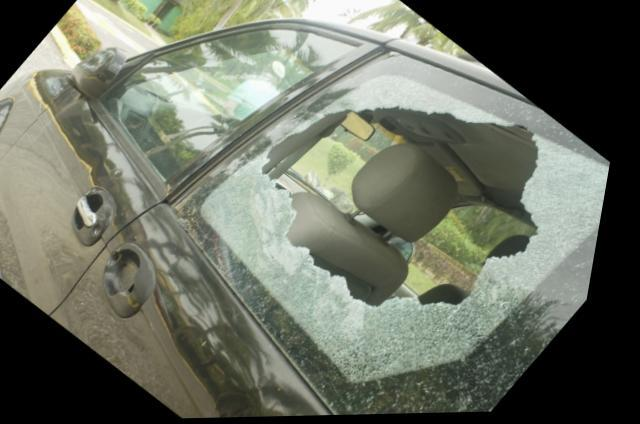glass shatter: (178, 55, 616, 417)
